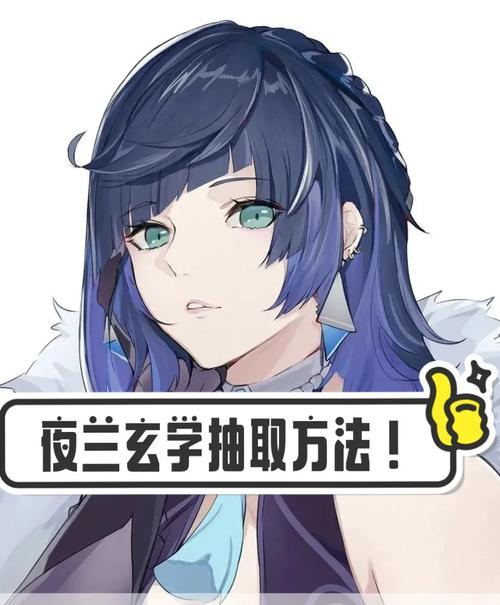夜兰: (9, 19, 500, 604)
